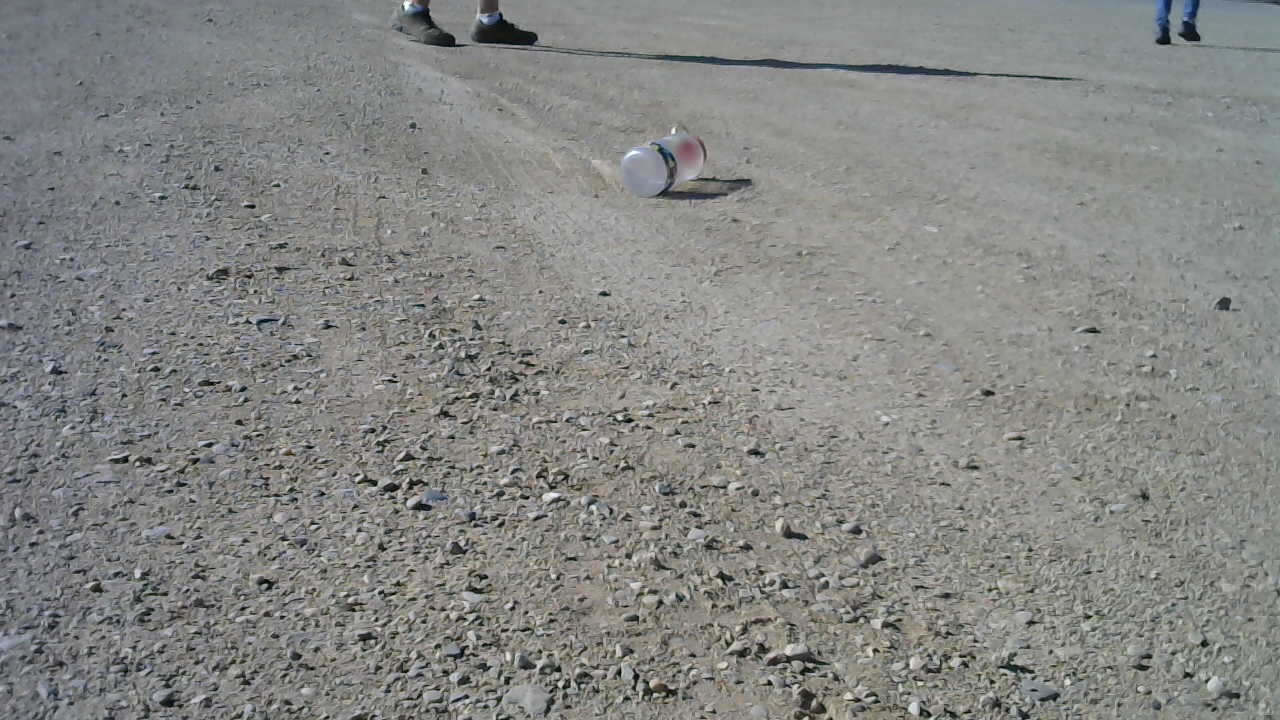bottle: (622, 115, 712, 200)
